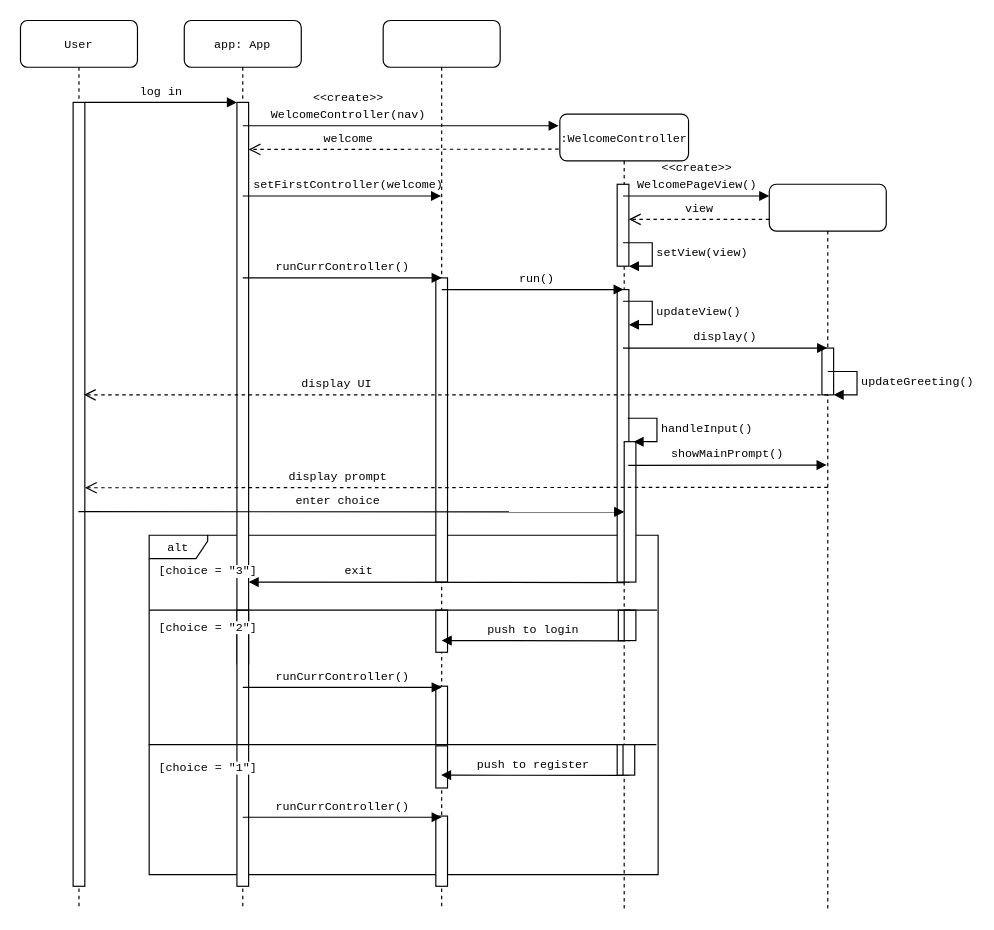
This 994x930 diagram has some shape labels left out. The box of each missing label's shape, as (x1, y1, x2, y2) in pixels:
:LoginPageView: (768, 183, 886, 910)
nav: Navigator: (382, 19, 500, 910)
